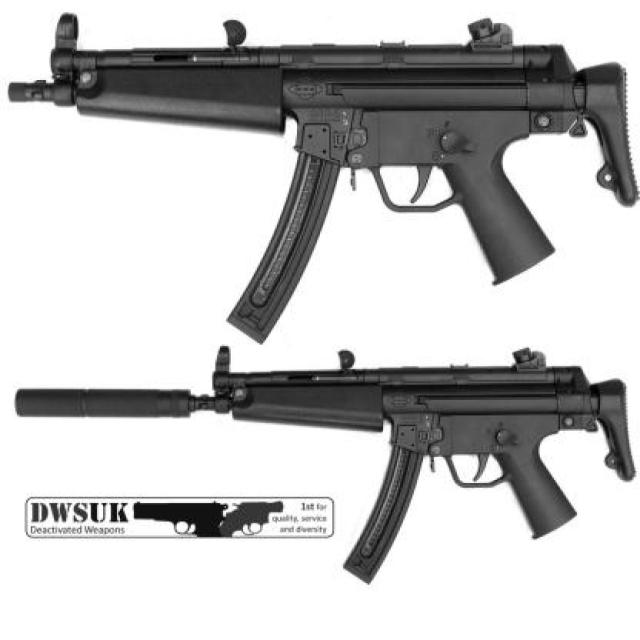weapon: (6, 12, 640, 347), (7, 348, 628, 586), (132, 499, 226, 538), (225, 500, 283, 538)
